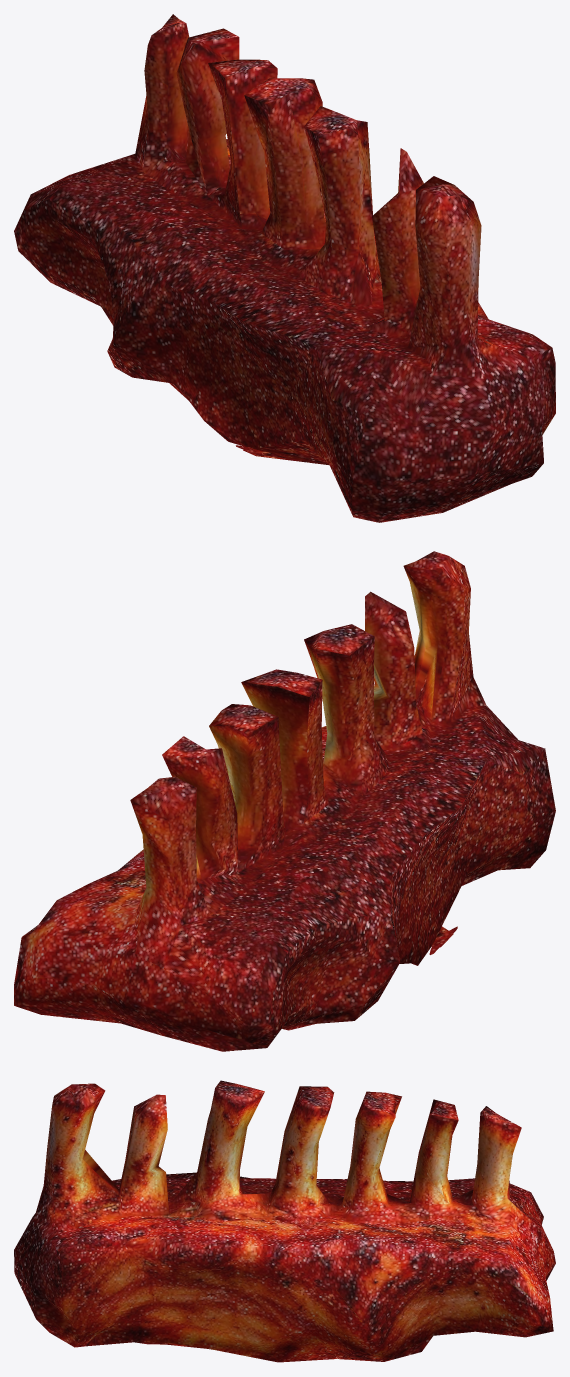
Rendered from rib.glb.
The picture shows the model from 3 angles, top to bottom: view 1: azimuth 30°, elevation 25°; view 2: azimuth 150°, elevation 25°; view 3: azimuth 270°, elevation 25°; orthographic projection. The views are drawn at different scales.
Parts seen in each view (by area): view 1: rib; view 2: rib; view 3: rib.
Part boxes in pixels (x1=…): rib: x1=14, y1=14, x2=555, y2=522; rib: x1=14, y1=551, x2=555, y2=1051; rib: x1=14, y1=1080, x2=555, y2=1362.
Size of the model in its own units: 1.66 by 1.84 by 3.62.
Materials: 1 (1 with a texture image).
